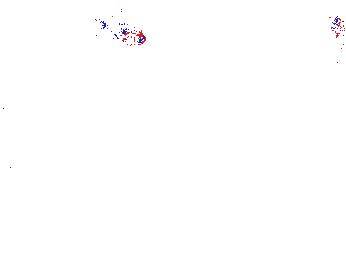red belly glassfish: (96, 17, 148, 47)
redtail glassfish: (46, 1, 133, 29), (324, 13, 346, 75)
